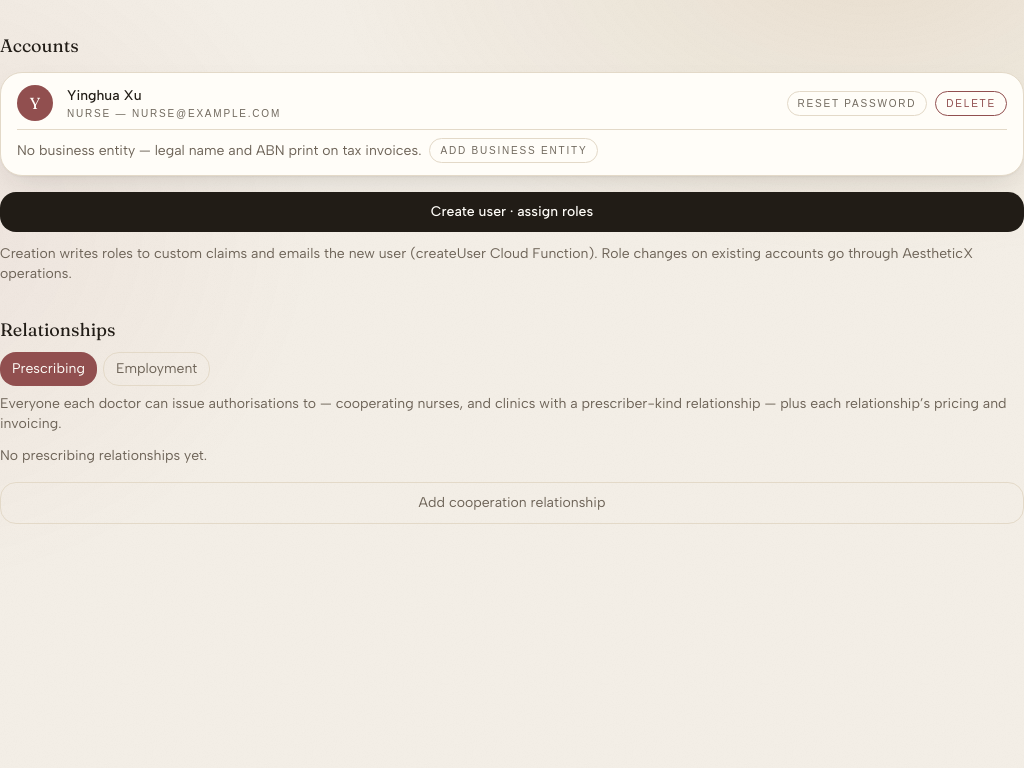
Test: create-relationship counterparty types › offers a Nurse/Clinic counterparty toggle, defaulting to Nurse
Click the button "Add cooperation relationship": (512, 503) [0, 482, 1023, 524]
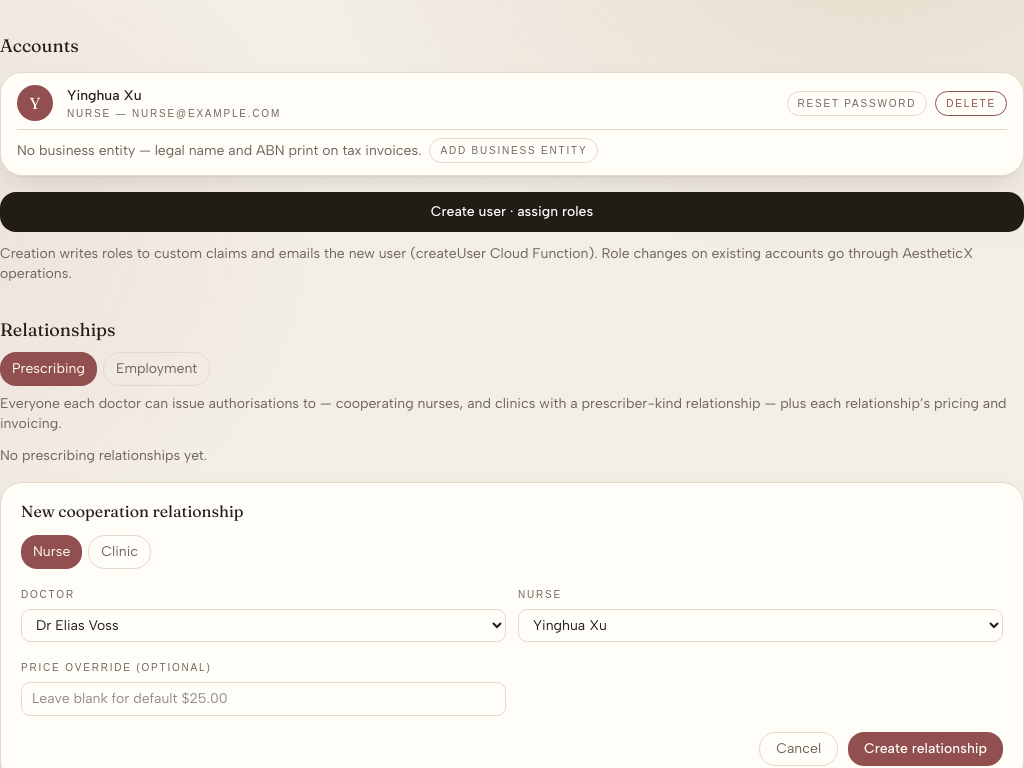
Now the dropdown labelled "Nurse" is shown, box [518, 609, 1003, 642]
